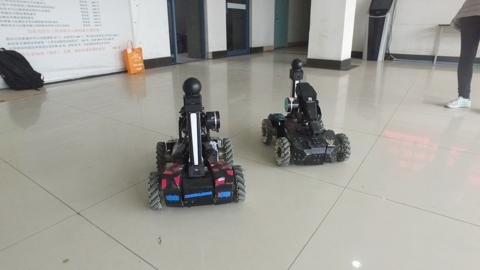chariot: (146, 79, 247, 216), (258, 56, 355, 176)
